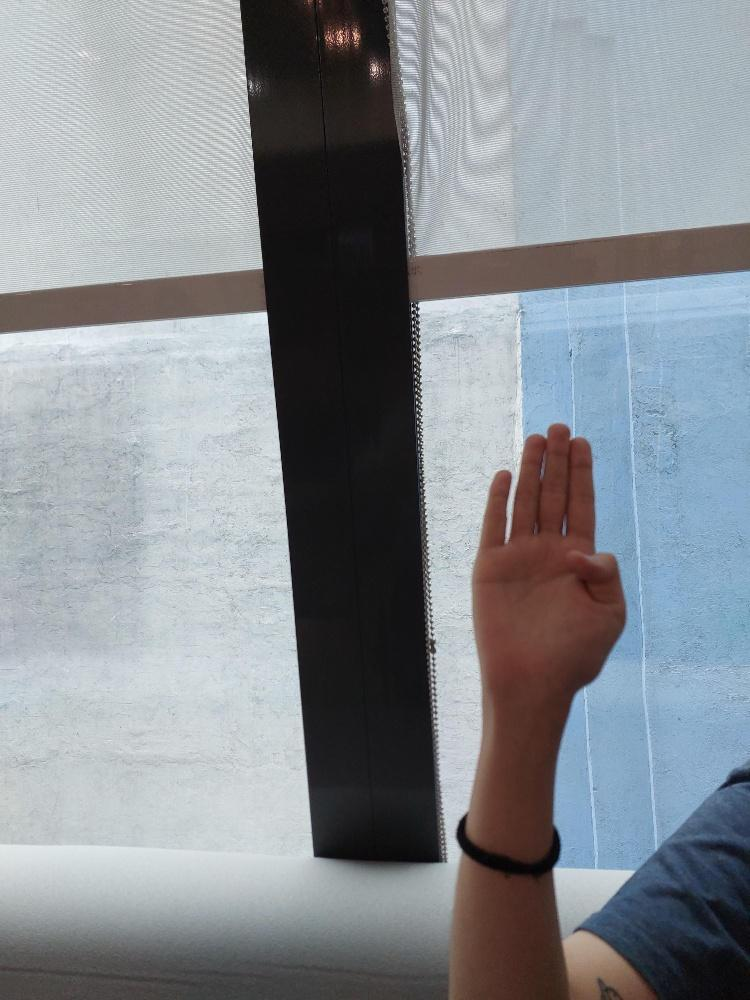b: (468, 420, 624, 690)
